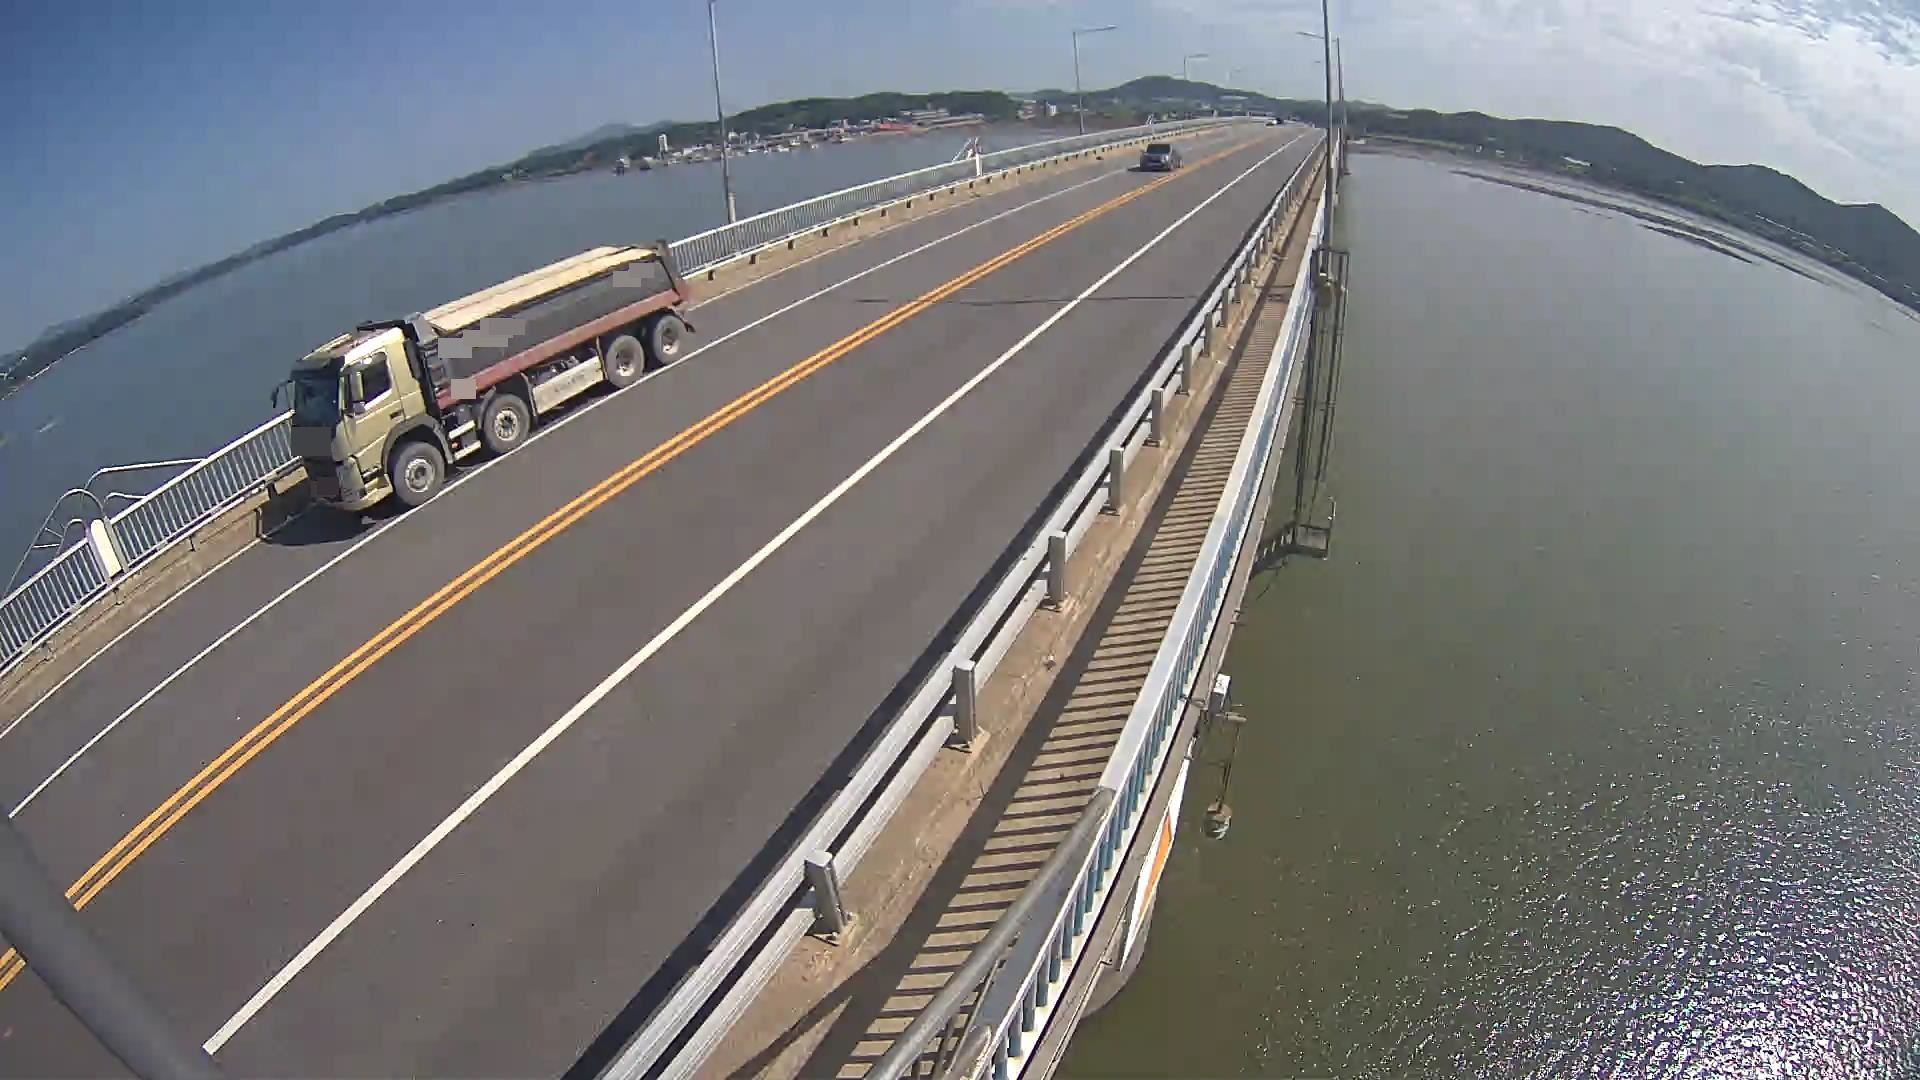정상차량: (270, 237, 696, 510)
